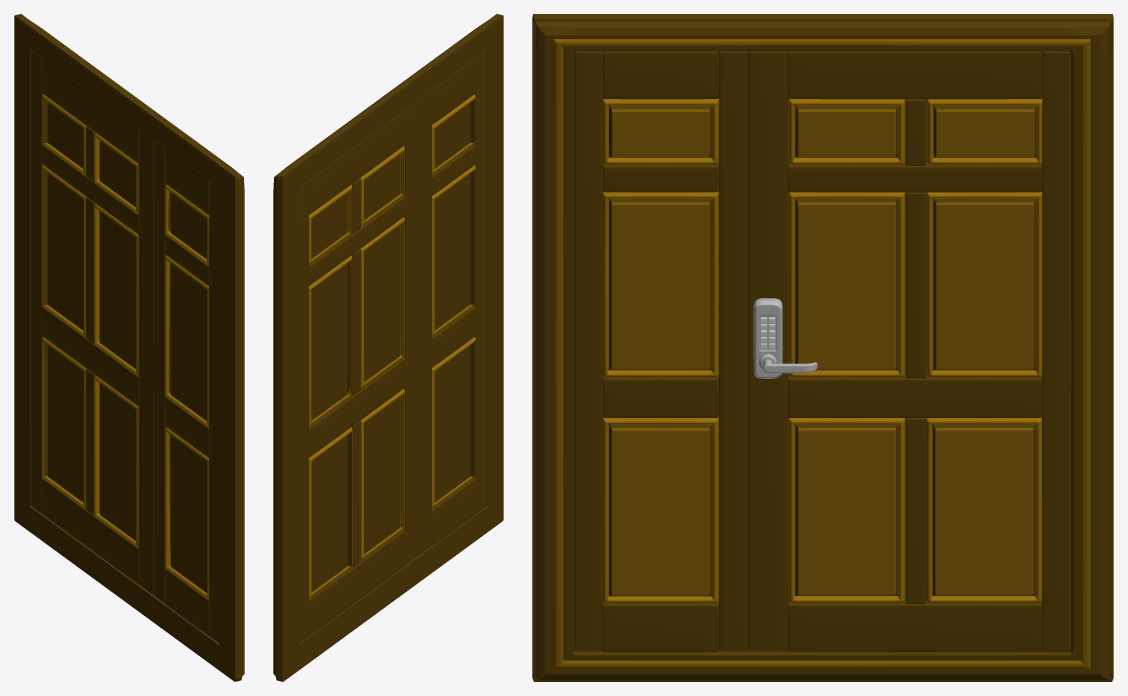
File: door.fbx
3 views of the same model, side by side, from view 1: azimuth 30°, elevation 25°; view 2: azimuth 150°, elevation 25°; view 3: azimuth 270°, elevation 25° (orthographic). The views are drawn at different scales.
Visible parts, largest first — view 1: polySurface78, pCube28, pCube29, polySurface80, pCube15, pCube14, pCube23, pCube24, pCube5, pCube13, pCube2, pCube7 (+16 smaller); view 2: polySurface78, pCube28, pCube29, polySurface80, pCube24, pCube15, pCube14, pCube23, pCube5, pCube13, pCube2, pCube7 (+16 smaller); view 3: polySurface78, polySurface88, pCube15, pCube14, pCube24, pCube23, polySurface10, pasted__polySurface18, pasted__polySurface51, polySurface14, polySurface16, polySurface12 (+34 smaller).
Part boxes in pixels (x1,y1,x2,y2): polySurface78: (15,17,244,678); pCube28: (47,102,135,540); pCube29: (170,192,206,592); polySurface80: (14,14,241,681); pCube15: (138,129,153,594); pCube14: (31,50,47,513); pCube23: (153,140,170,602); pCube24: (209,180,219,642); pCube5: (42,478,138,584); pCube13: (42,58,138,163); pCube2: (42,306,138,406); pCube7: (42,144,138,234); polySurface78: (273,17,502,678); pCube28: (311,154,400,592); pCube29: (434,102,470,502); polySurface80: (276,14,503,681); pCube24: (470,50,487,512); pCube15: (404,98,420,564); pCube14: (298,180,309,643); pCube23: (421,90,431,553); pCube5: (309,529,405,635); pCube13: (309,109,405,214); pCube2: (309,357,405,457); pCube7: (309,195,405,285); polySurface78: (535,21,1110,679); polySurface88: (553,39,1090,669); pCube15: (748,51,788,651); pCube14: (1042,51,1071,651); pCube24: (574,51,603,651); pCube23: (719,51,747,651); polySurface10: (935,202,1033,369); pasted__polySurface18: (611,428,709,595); pasted__polySurface51: (611,202,709,369); polySurface14: (935,428,1033,595); polySurface16: (797,428,895,595); polySurface12: (797,202,895,369).
Bounding box in the file's own units: 2.35 × 35.03 × 27.79.
